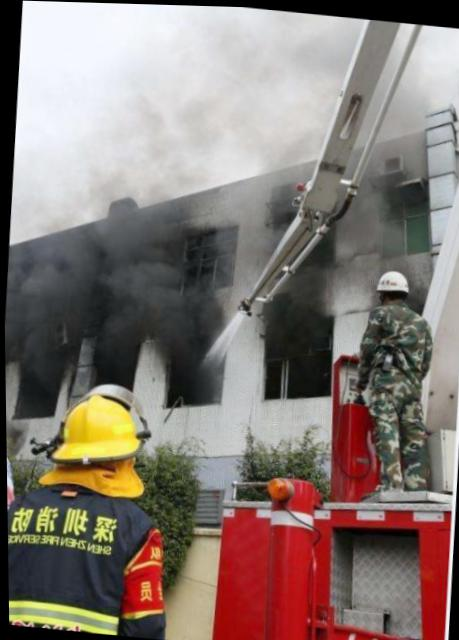smoke: (108, 3, 333, 210), (17, 197, 206, 353)
